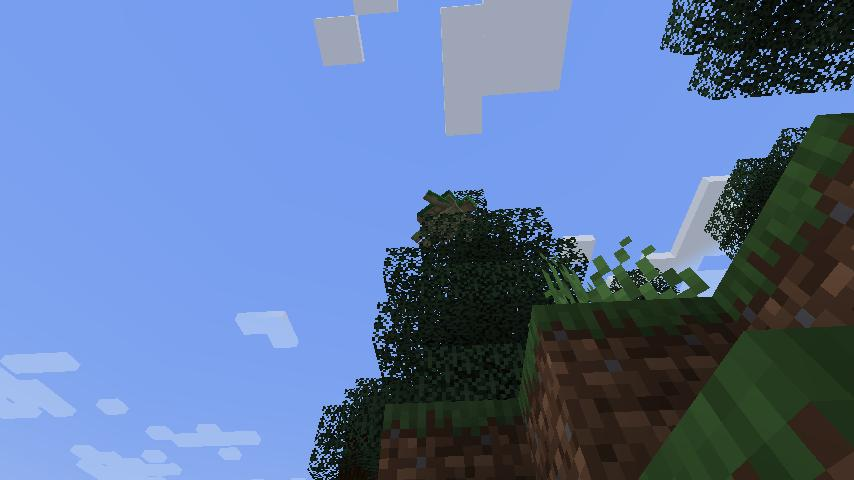turtle: (411, 188, 482, 250)
